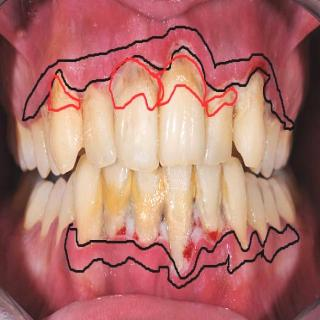Gum Swelling: (21, 27, 295, 130), (65, 216, 299, 286)
calculus: (159, 47, 205, 163), (111, 61, 162, 163), (162, 170, 198, 262), (74, 168, 108, 262), (234, 62, 264, 160), (193, 161, 225, 249), (132, 169, 164, 255), (100, 165, 132, 251), (49, 77, 81, 157), (204, 82, 236, 162), (223, 162, 251, 252), (78, 87, 112, 159), (266, 95, 284, 172), (39, 100, 53, 166)
maligned: (231, 56, 268, 170), (45, 59, 81, 173)
